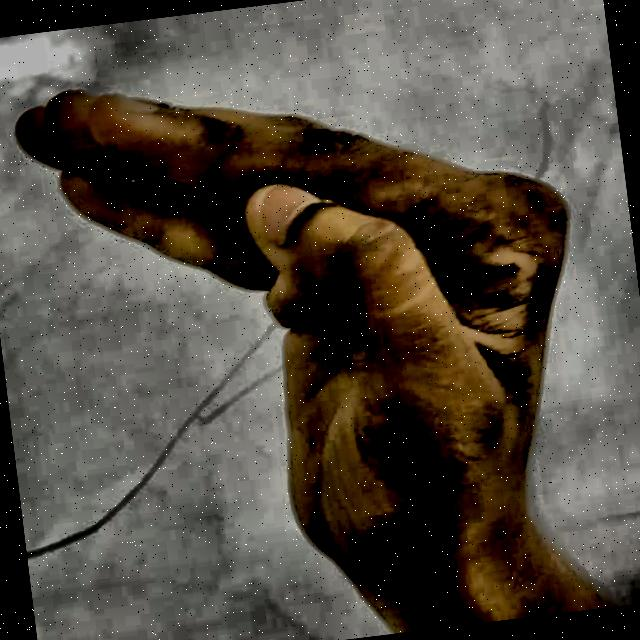Ga: (0, 4, 632, 626)
